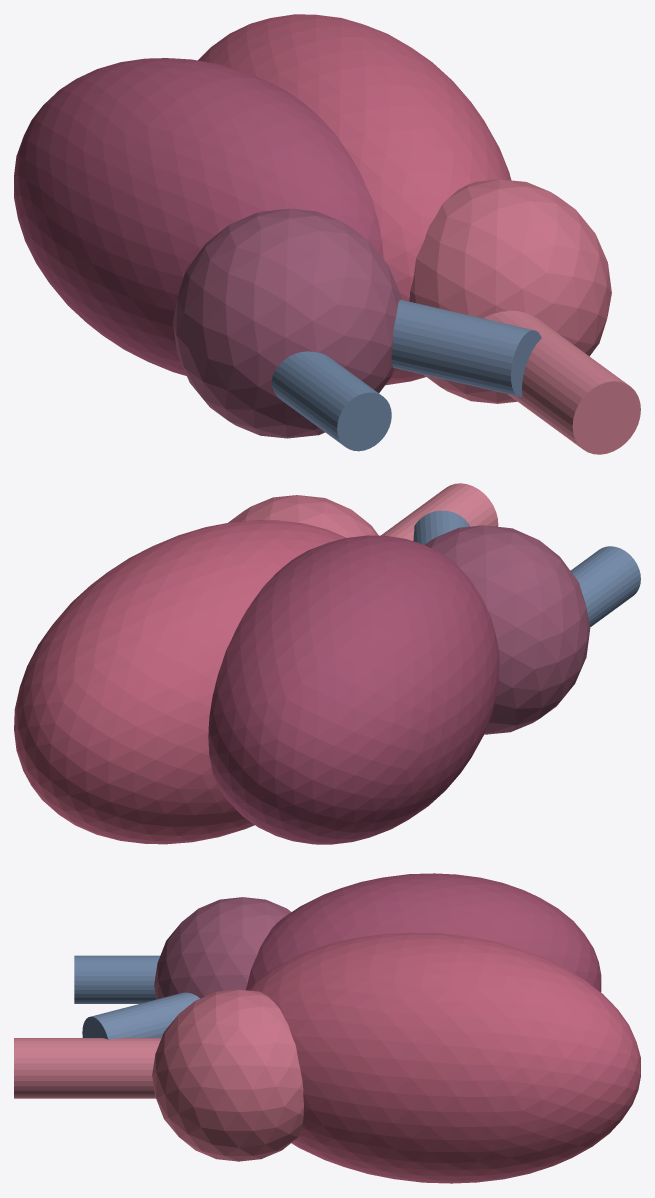
File: heart-high.glb
3 views of the same model, one above another, from view 1: azimuth 30°, elevation 25°; view 2: azimuth 150°, elevation 25°; view 3: azimuth 270°, elevation 25° (orthographic). The views are drawn at different scales.
Visible parts, largest first — view 1: right_ventricle, right_atrium, left_ventricle, left_atrium, aorta, pulmonary_artery, vena_cava; view 2: right_ventricle, left_ventricle, right_atrium, vena_cava, left_atrium, aorta, pulmonary_artery; view 3: left_ventricle, left_atrium, right_ventricle, right_atrium, aorta, vena_cava, pulmonary_artery.
Part boxes in pixels (<box>): right_ventricle: <box>14,58,383,375</box>; right_atrium: <box>173,208,400,438</box>; left_ventricle: <box>198,14,511,385</box>; left_atrium: <box>409,179,611,403</box>; aorta: <box>483,310,640,454</box>; pulmonary_artery: <box>391,299,541,396</box>; vena_cava: <box>272,351,391,451</box>; right_ventricle: <box>208,535,499,844</box>; left_ventricle: <box>14,520,346,844</box>; right_atrium: <box>425,525,590,734</box>; vena_cava: <box>570,546,640,627</box>; left_atrium: <box>228,495,378,537</box>; aorta: <box>381,483,498,540</box>; pulmonary_artery: <box>413,510,469,544</box>; left_ventricle: <box>248,932,640,1183</box>; left_atrium: <box>152,989,303,1161</box>; right_ventricle: <box>246,873,601,991</box>; right_atrium: <box>154,897,291,999</box>; aorta: <box>14,1038,161,1098</box>; vena_cava: <box>74,955,159,1003</box>; pulmonary_artery: <box>82,992,199,1039</box>.
Size of the model in its own units: 1.85 by 1.28 by 3.11.
